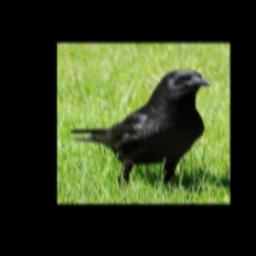Crow: (69, 68, 214, 188)
